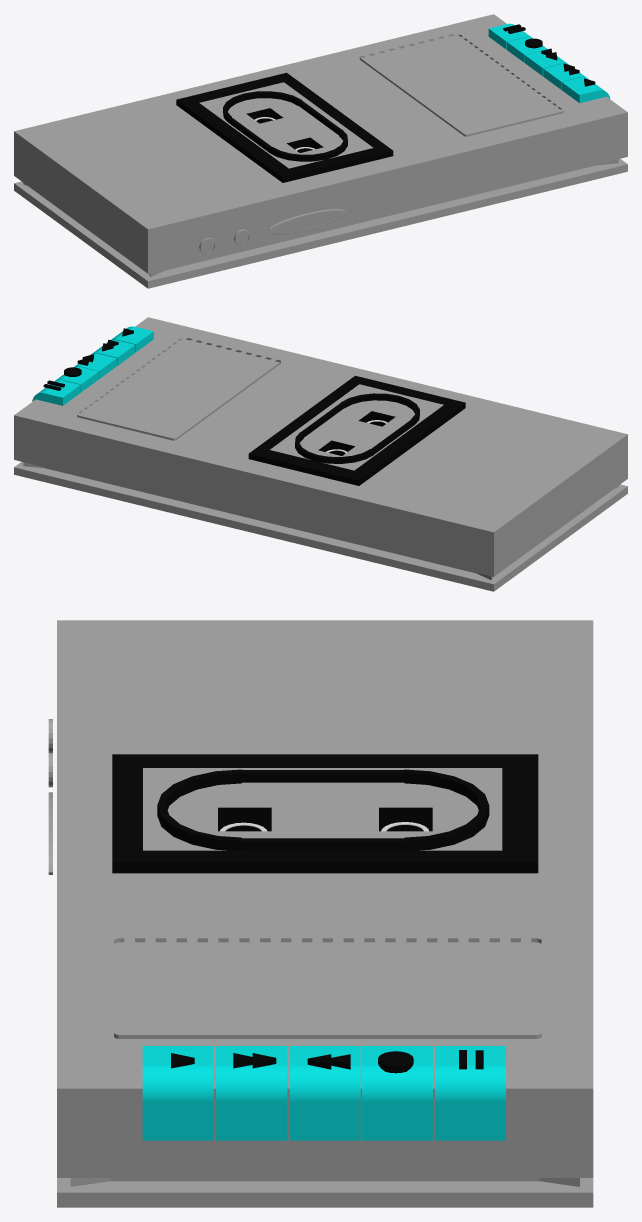
The model's file is Casette Player.fbx.
The picture shows the model from 3 angles, top to bottom: view 1: azimuth 30°, elevation 25°; view 2: azimuth 150°, elevation 25°; view 3: azimuth 270°, elevation 25°; orthographic projection. The views are drawn at different scales.
Parts seen in each view (by area): view 1: polySurface39, polySurface52, polySurface40, polySurface55, polySurface50, polySurface43, polySurface46, polySurface47, polySurface48, polySurface51, polySurface49; view 2: polySurface39, polySurface52, polySurface40, polySurface51, polySurface46, polySurface43, polySurface50, polySurface48, polySurface47, polySurface49; view 3: polySurface39, polySurface52, polySurface40, polySurface50, polySurface51, polySurface47, polySurface48, polySurface49, polySurface46, polySurface43, polySurface44, polySurface45.
Part boxes in pixels (x1,y1,x2,y2): polySurface39: (14, 14, 627, 288); polySurface52: (359, 33, 563, 136); polySurface40: (176, 72, 393, 182); polySurface55: (267, 209, 346, 234); polySurface50: (561, 77, 609, 103); polySurface43: (269, 130, 347, 161); polySurface46: (223, 91, 301, 121); polySurface47: (525, 51, 568, 75); polySurface48: (543, 64, 587, 89); polySurface51: (488, 23, 531, 49); polySurface49: (507, 37, 547, 62); polySurface39: (14, 317, 627, 591); polySurface52: (77, 337, 280, 440); polySurface40: (248, 375, 465, 485); polySurface51: (32, 380, 80, 405); polySurface46: (295, 432, 373, 463); polySurface43: (341, 393, 419, 423); polySurface50: (111, 326, 153, 352); polySurface48: (92, 340, 135, 365); polySurface47: (74, 353, 116, 378); polySurface49: (55, 366, 98, 392); polySurface39: (57, 620, 593, 1207); polySurface52: (114, 938, 541, 1038); polySurface40: (112, 754, 538, 873); polySurface50: (142, 1046, 213, 1140); polySurface51: (435, 1046, 505, 1140); polySurface47: (289, 1046, 360, 1140); polySurface48: (216, 1046, 287, 1140); polySurface49: (362, 1046, 432, 1140); polySurface46: (404, 769, 489, 850); polySurface43: (157, 769, 241, 850); polySurface44: (238, 838, 404, 850); polySurface45: (242, 770, 404, 782).
Bounding box in the file's own units: 6.11 × 0.8477 × 2.98.
